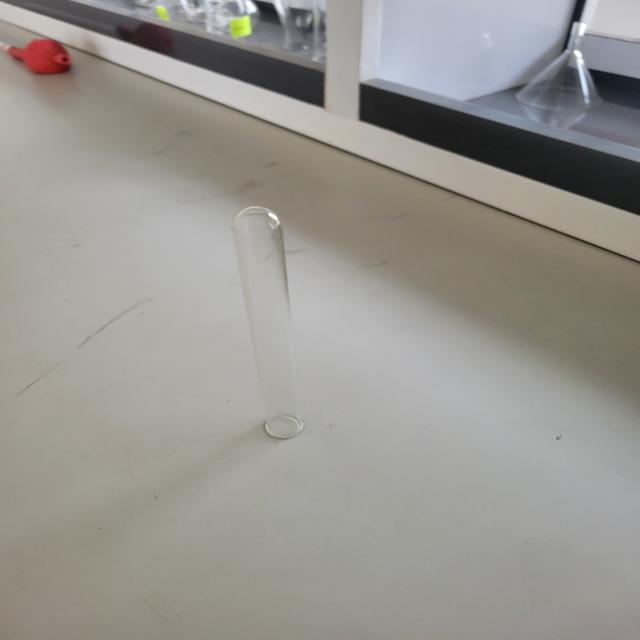Test_Tube: (165, 178, 368, 457)
